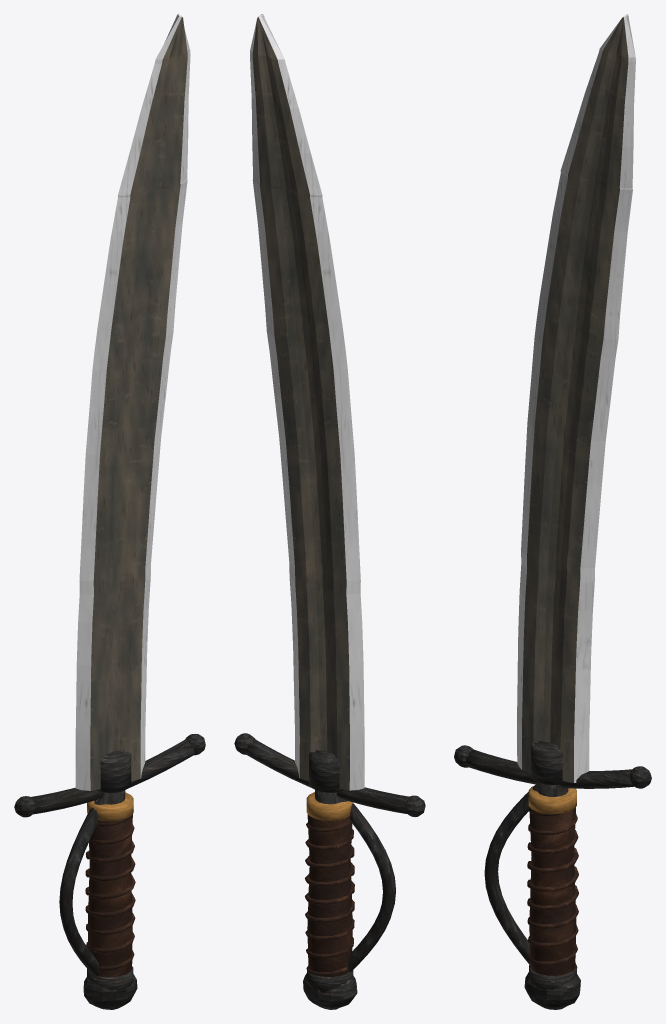
Rendered from chapel_sabre.glb.
3 renders of one model, left to right at view 1: azimuth 30°, elevation 25°; view 2: azimuth 150°, elevation 25°; view 3: azimuth 330°, elevation 25°, orthographic. The views are drawn at different scales.
Parts seen in each view (by area): view 1: Forged Blade with Eased Bevels.001, Bound palm grip.001, Forged knuckle sweep, Continuous bound leather seam.001, Hand-forged crossguard.001, Rounded blade shoulder.001, Cast counterweight.001, Grip forward ferrule.001, Grip rear ferrule.001; view 2: Forged Blade with Eased Bevels.001, Bound palm grip.001, Forged knuckle sweep, Continuous bound leather seam.001, Hand-forged crossguard.001, Rounded blade shoulder.001, Cast counterweight.001, Grip forward ferrule.001, Grip rear ferrule.001; view 3: Forged Blade with Eased Bevels.001, Bound palm grip.001, Continuous bound leather seam.001, Forged knuckle sweep, Hand-forged crossguard.001, Rounded blade shoulder.001, Cast counterweight.001, Grip forward ferrule.001, Grip rear ferrule.001.
Part boxes in pixels (x1=…): Forged Blade with Eased Bevels.001: x1=75, y1=14, x2=190, y2=790; Bound palm grip.001: x1=87, y1=814, x2=132, y2=977; Forged knuckle sweep: x1=59, y1=798, x2=104, y2=975; Continuous bound leather seam.001: x1=85, y1=810, x2=135, y2=970; Hand-forged crossguard.001: x1=31, y1=740, x2=194, y2=814; Rounded blade shoulder.001: x1=96, y1=752, x2=131, y2=793; Cast counterweight.001: x1=83, y1=974, x2=137, y2=1009; Grip forward ferrule.001: x1=87, y1=792, x2=133, y2=821; Grip rear ferrule.001: x1=87, y1=966, x2=133, y2=992; Forged Blade with Eased Bevels.001: x1=250, y1=14, x2=364, y2=790; Bound palm grip.001: x1=307, y1=814, x2=352, y2=977; Forged knuckle sweep: x1=341, y1=799, x2=395, y2=971; Continuous bound leather seam.001: x1=305, y1=822, x2=354, y2=976; Hand-forged crossguard.001: x1=245, y1=739, x2=408, y2=813; Rounded blade shoulder.001: x1=309, y1=752, x2=343, y2=792; Cast counterweight.001: x1=303, y1=973, x2=357, y2=1009; Grip forward ferrule.001: x1=306, y1=792, x2=353, y2=820; Grip rear ferrule.001: x1=307, y1=966, x2=353, y2=992; Forged Blade with Eased Bevels.001: x1=517, y1=14, x2=635, y2=782; Bound palm grip.001: x1=529, y1=807, x2=576, y2=975; Continuous bound leather seam.001: x1=527, y1=808, x2=578, y2=973; Forged knuckle sweep: x1=484, y1=784, x2=537, y2=965; Hand-forged crossguard.001: x1=465, y1=749, x2=633, y2=788; Rounded blade shoulder.001: x1=531, y1=743, x2=565, y2=785; Cast counterweight.001: x1=524, y1=972, x2=580, y2=1009; Grip forward ferrule.001: x1=528, y1=786, x2=576, y2=814; Grip rear ferrule.001: x1=529, y1=965, x2=576, y2=992.
Size of the model in its own units: 0.2435 by 1.2 by 0.0559.
5 materials, 5 textured.
